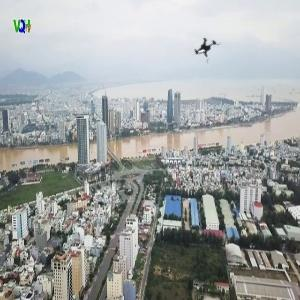drone: (179, 20, 233, 74)
